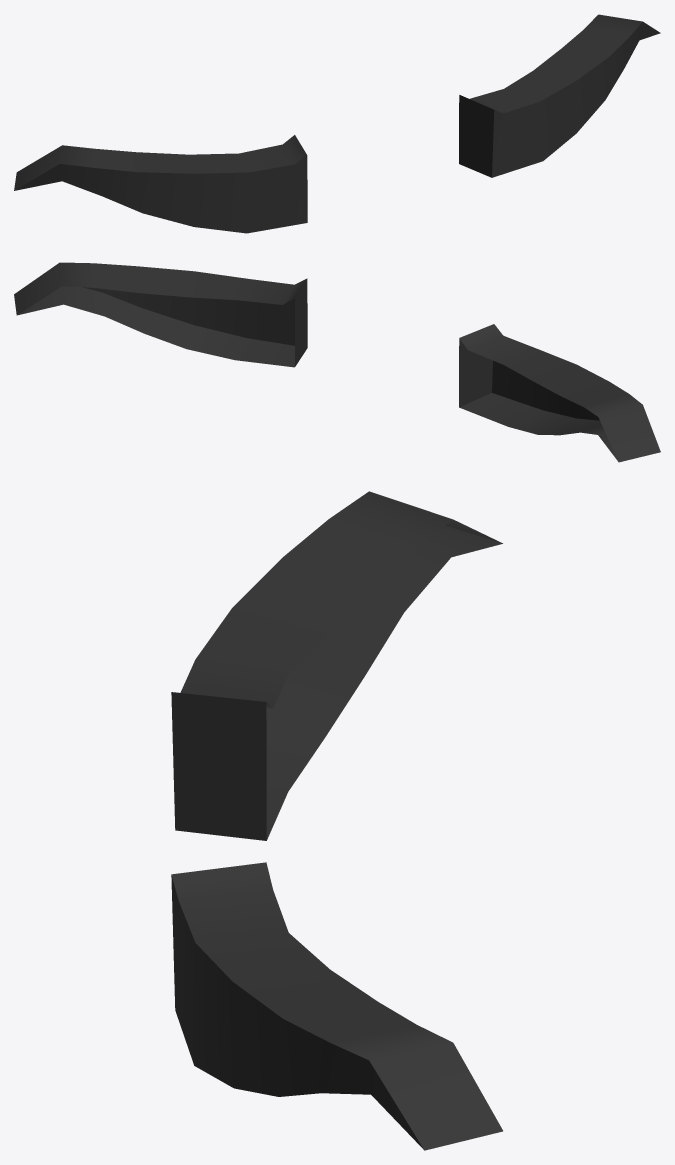
File: Brow_Black_4.fbx
The picture shows the model from 3 angles, top to bottom: view 1: azimuth 30°, elevation 25°; view 2: azimuth 150°, elevation 25°; view 3: azimuth 270°, elevation 25°; orthographic projection. The views are drawn at different scales.
Visible parts, largest first — view 1: Brow_Black_4; view 2: Brow_Black_4; view 3: Brow_Black_4.
Boxes of the visible parts, bbox=[...] form: Brow_Black_4: bbox=[14, 14, 660, 233]; Brow_Black_4: bbox=[14, 262, 660, 462]; Brow_Black_4: bbox=[171, 491, 502, 1150].
Size of the model in its own units: 37.59 by 4.15 by 8.36.
